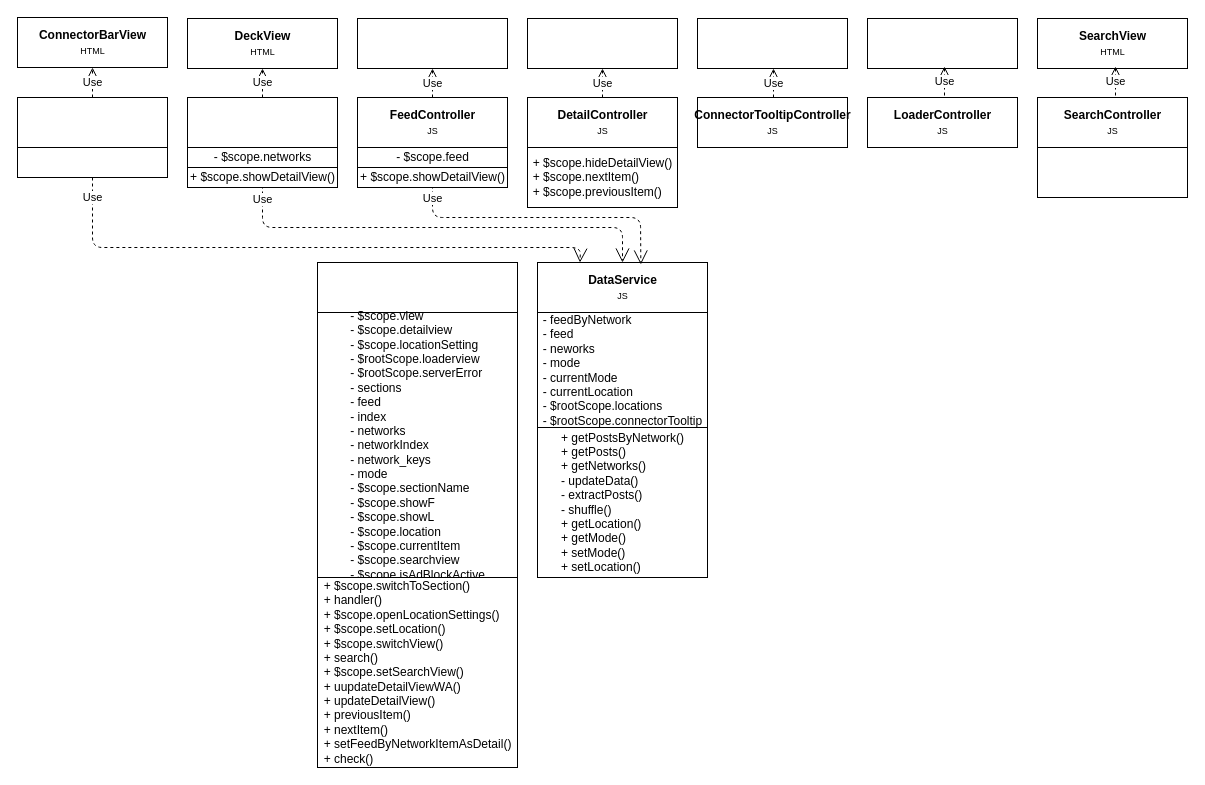
Image size: 1205x785. Some labels were removed from this diagram. The centre of each missing label's shape, as x and y in pixels:
+ $scope.hideSearchView() + $scope.search() + $scope.enterSearch(): pixel 1112 172
- $scope.neworks - $scope.connectors: pixel 92 162
AppController JS: pixel 417 287
ConnectorBarController JS: pixel 92 122
ConnectorTooltipView HTML: pixel 772 43
DeckController JS: pixel 262 122
DetailView HTML: pixel 602 43
FeedView HTML: pixel 432 43
LoaderView HTML: pixel 942 43
